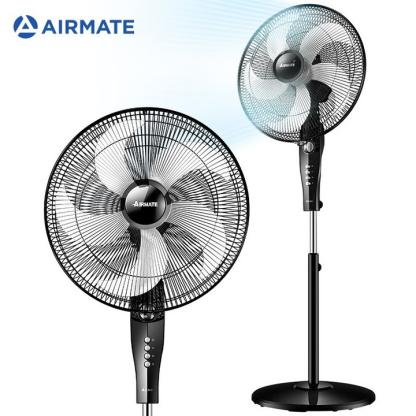fan: (31, 99, 263, 416), (227, 0, 387, 414)
